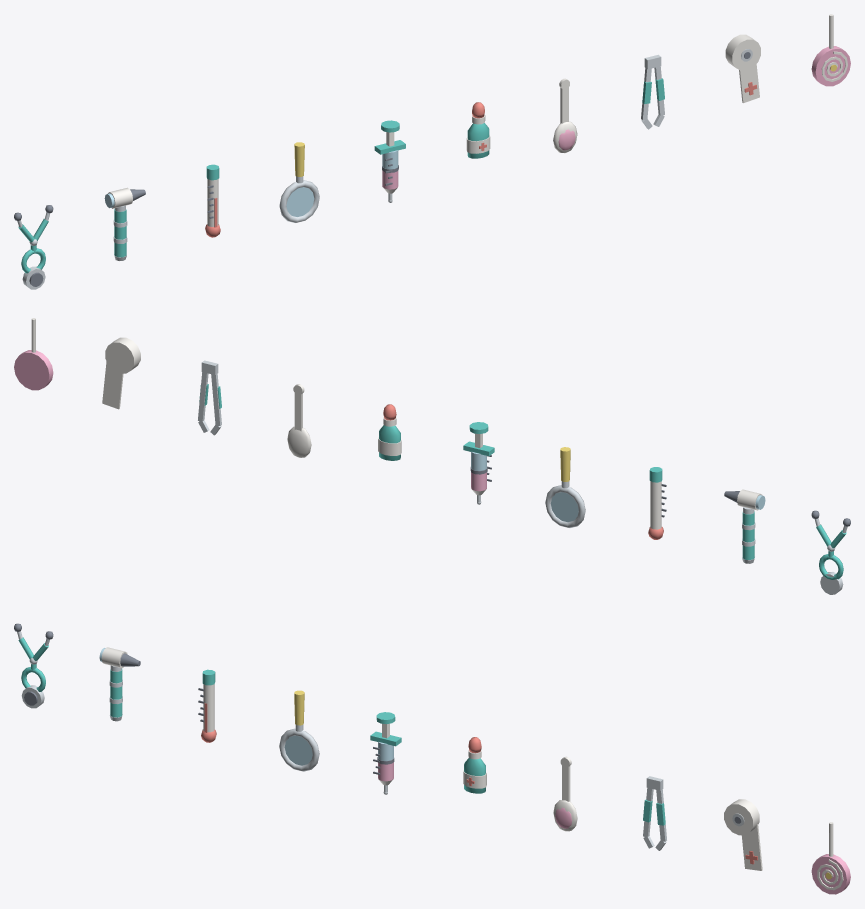
The model's file is vet-tools.glb.
3 views of the same model, one above another, from view 1: azimuth 30°, elevation 25°; view 2: azimuth 150°, elevation 25°; view 3: azimuth 330°, elevation 25° (orthographic).
Visible parts, largest first — view 1: lolly_candy, band_roll, mag_ring, mag_lens, band_strip; view 2: lolly_candy, band_roll, mag_ring, band_strip, mag_lens, spoon_bowl, therm_body; view 3: lolly_candy, band_roll, mag_ring, mag_lens, band_strip.
Part boxes in pixels (<box>): lolly_candy: <box>811,46,850,86</box>; band_roll: <box>725,34,760,70</box>; mag_ring: <box>279,180,319,222</box>; mag_lens: <box>286,187,314,216</box>; band_strip: <box>739,64,759,103</box>; lolly_candy: <box>14,350,53,390</box>; band_roll: <box>105,337,140,373</box>; mag_ring: <box>545,485,585,527</box>; band_strip: <box>102,361,123,409</box>; mag_lens: <box>550,492,578,522</box>; spoon_bowl: <box>287,426,311,457</box>; therm_body: <box>650,481,661,529</box>; lolly_candy: <box>811,854,850,894</box>; band_roll: <box>724,799,759,835</box>; mag_ring: <box>279,728,319,771</box>; mag_lens: <box>284,735,312,765</box>; band_strip: <box>741,824,762,870</box>.
Bounding box in the file's own units: 4.24 × 0.385 × 0.086.
